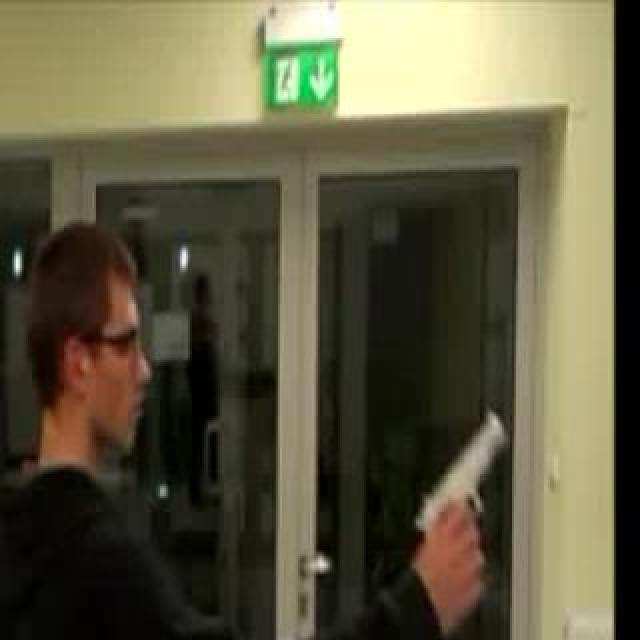Guns: (402, 403, 519, 583)
